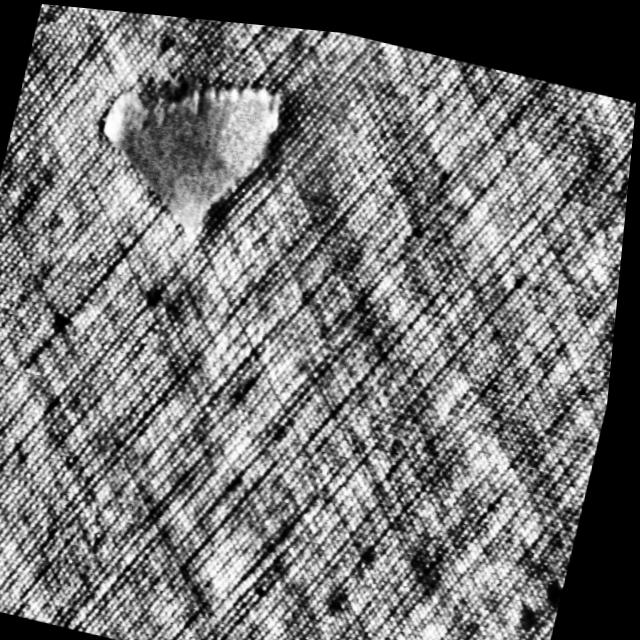Stitch: (79, 41, 296, 247)
